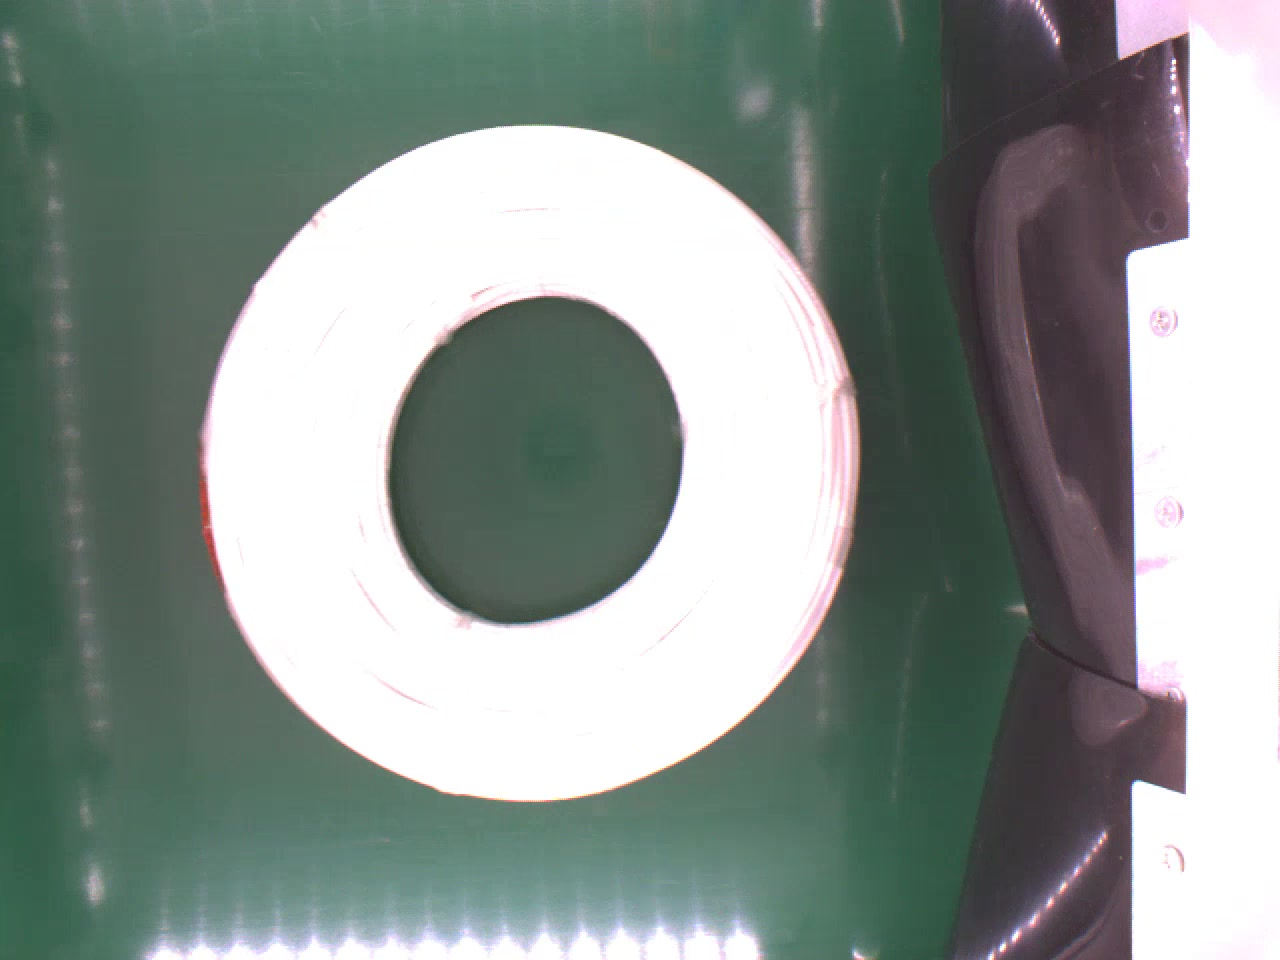white: (201, 121, 866, 806)
